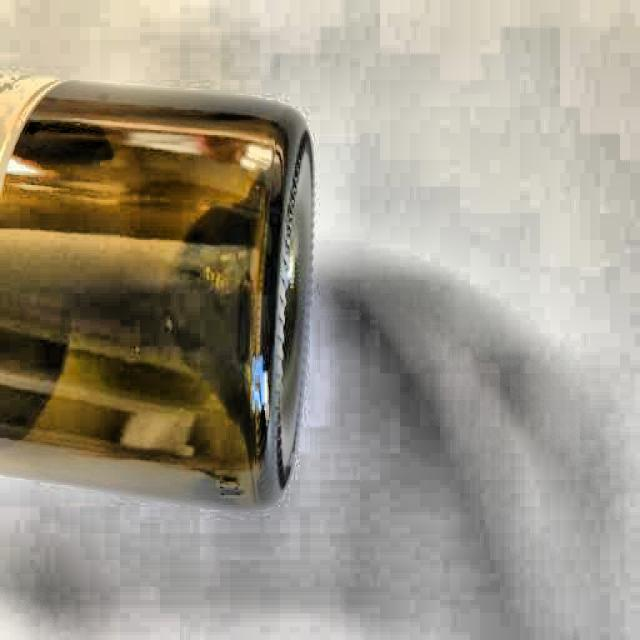glass: (0, 56, 315, 509)
